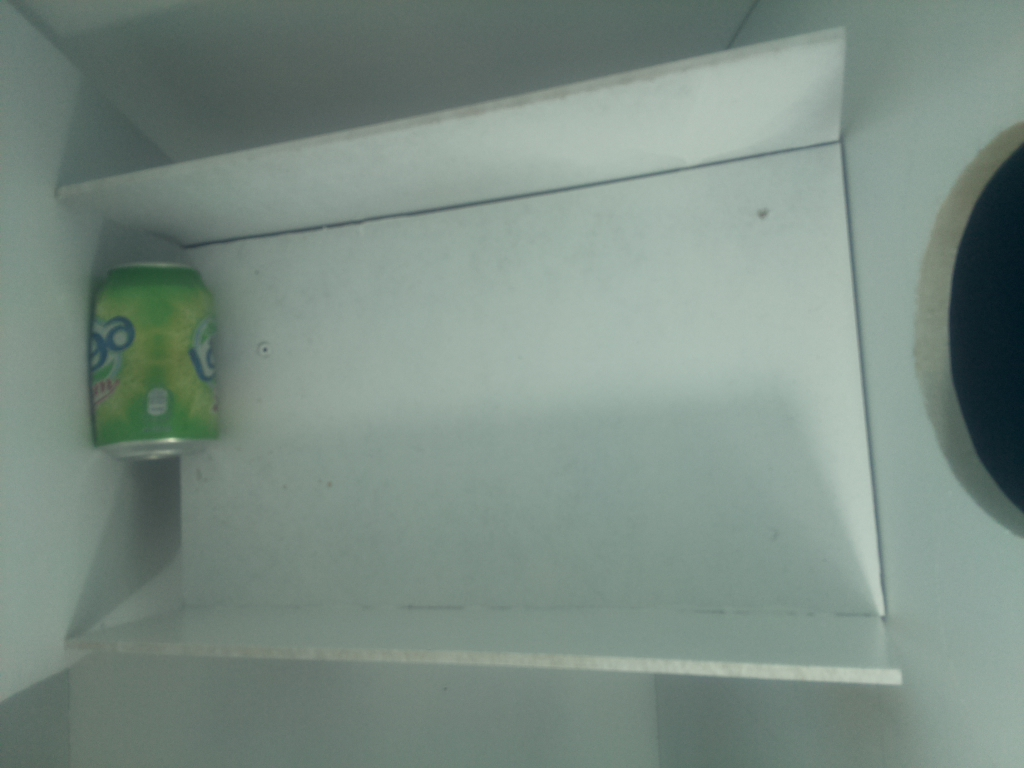kaleng: (91, 262, 219, 461)
